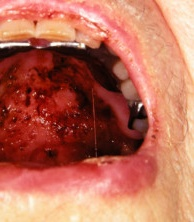SJS-TEN: (0, 53, 143, 176)
